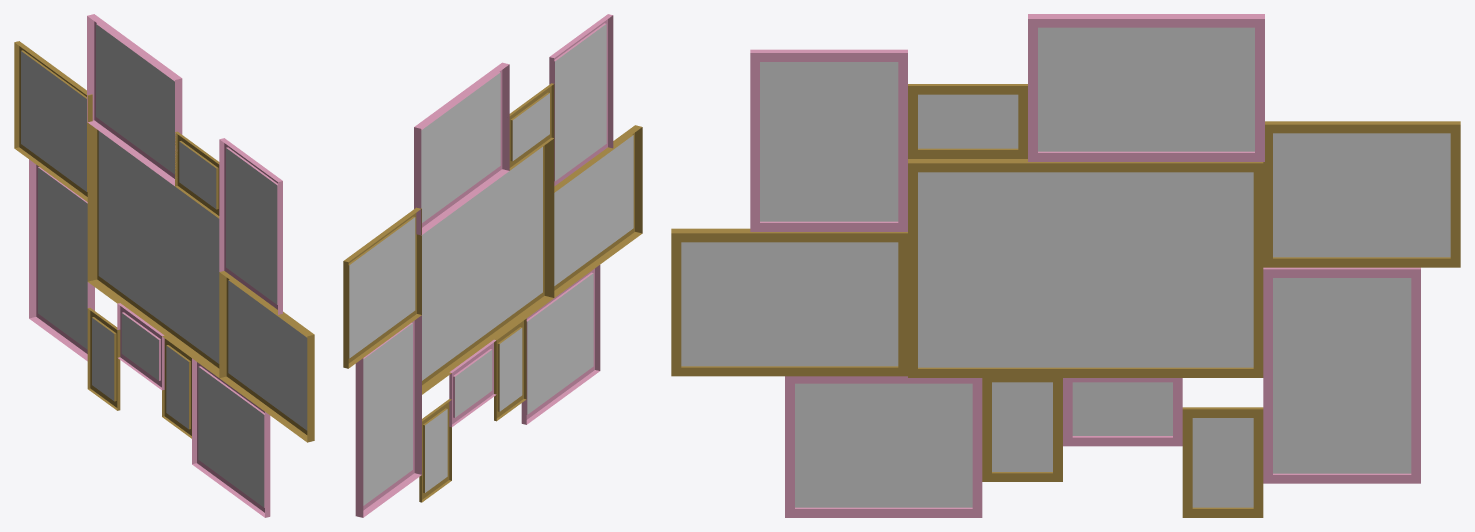
File: Pigura1.fbx
3 renders of one model, left to right at view 1: azimuth 30°, elevation 25°; view 2: azimuth 150°, elevation 25°; view 3: azimuth 270°, elevation 25°, orthographic. The views are drawn at different scales.
Parts seen in each view (by area): view 1: Cube.029; view 2: Cube.029; view 3: Cube.029.
Part boxes in pixels (left/top/right/bottom): Cube.029: left=14, top=14, right=314, bottom=517; Cube.029: left=343, top=14, right=642, bottom=517; Cube.029: left=671, top=14, right=1460, bottom=517.
Size of the model in its own units: 2.31 by 84.94 by 121.
